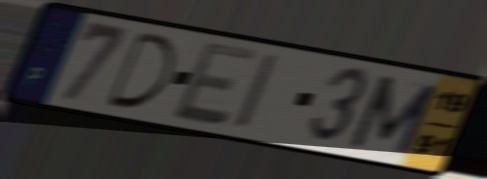3: (304, 65, 373, 148)
7: (61, 17, 130, 105)
D: (103, 28, 180, 112)
E: (169, 38, 262, 129)
I: (231, 50, 282, 133)
M: (344, 72, 443, 159)
